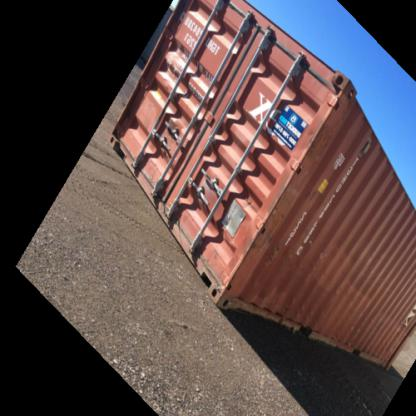Damage: (273, 177, 303, 221), (301, 124, 327, 163), (251, 211, 272, 251), (288, 316, 319, 343), (256, 234, 280, 268), (335, 88, 351, 128), (314, 246, 331, 265)
